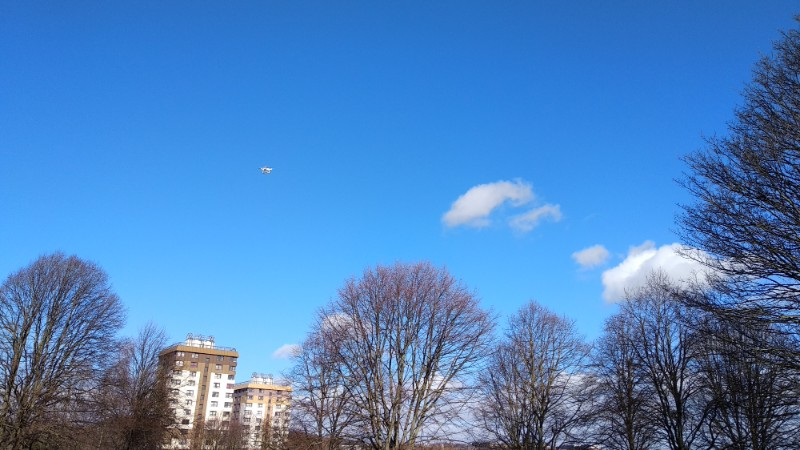drone: (259, 165, 274, 175)
